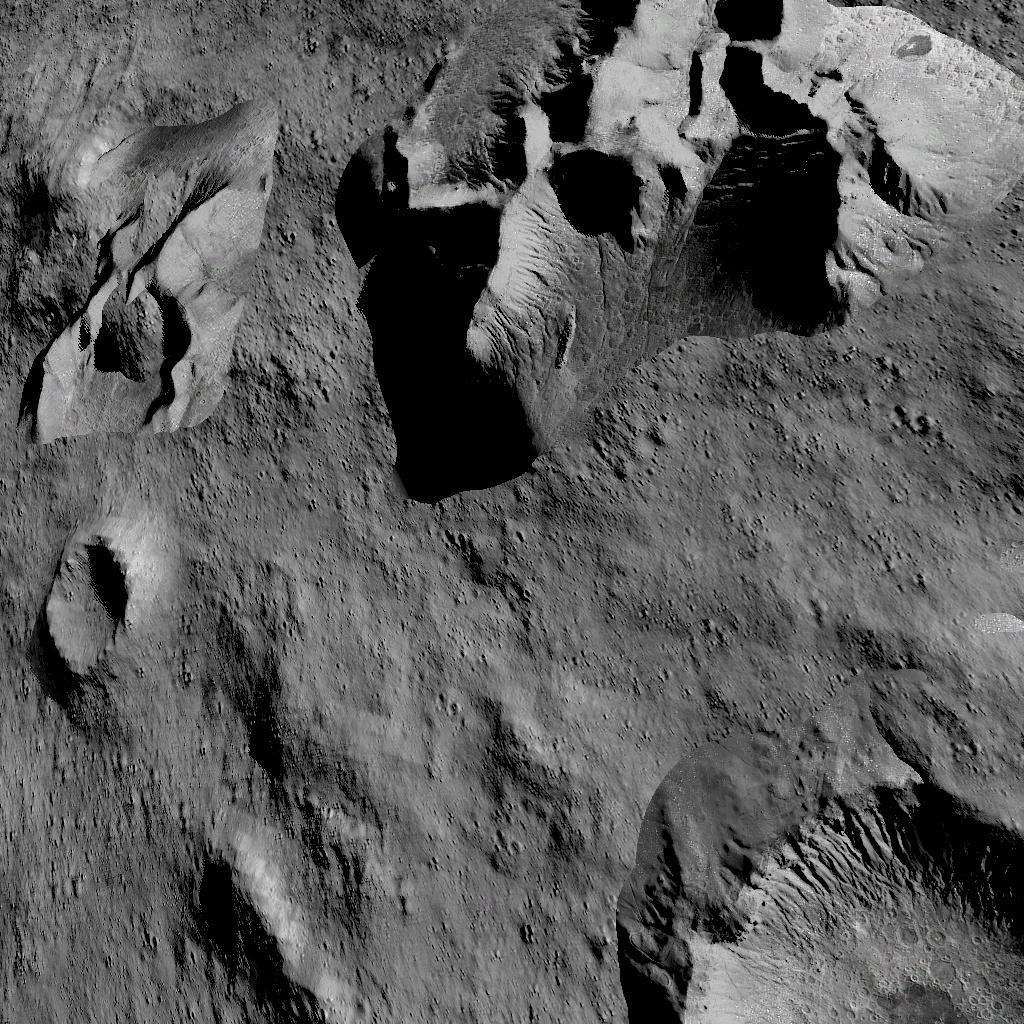Boulders: (334, 0, 1024, 503), (0, 107, 279, 446)
Crater: (632, 762, 1024, 1024), (34, 517, 144, 686)
Plan surface: (302, 516, 1024, 752), (352, 762, 620, 1024), (0, 710, 184, 1024), (0, 0, 303, 96)
